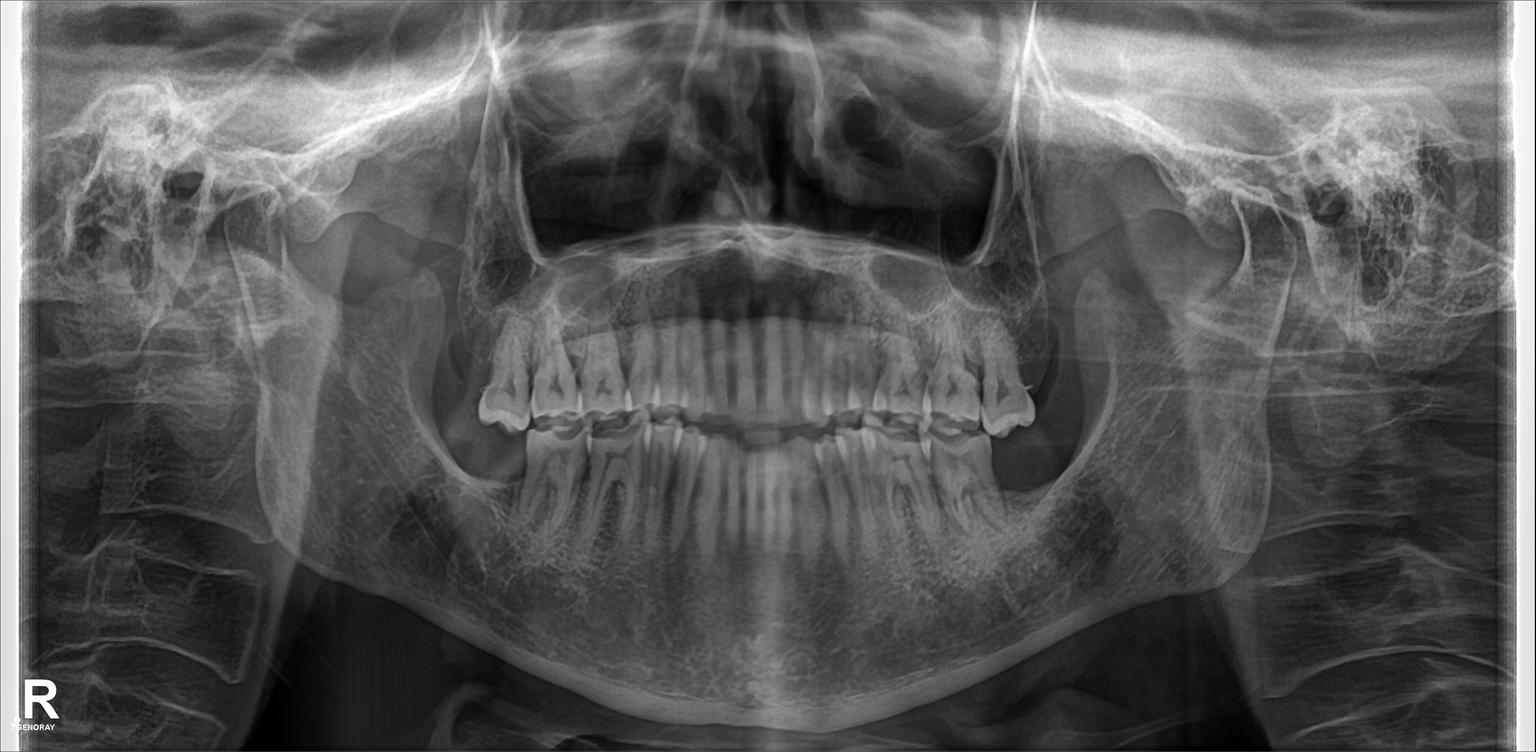Missing Tooth: (1017, 328, 1071, 419), (454, 315, 498, 411), (1045, 423, 1085, 514), (1000, 430, 1040, 518), (443, 430, 477, 509), (484, 439, 517, 515)
